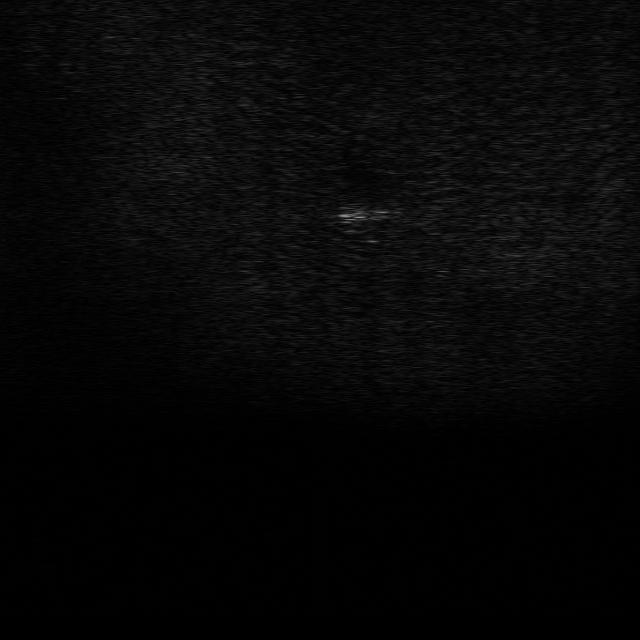plane: (332, 198, 402, 223)
